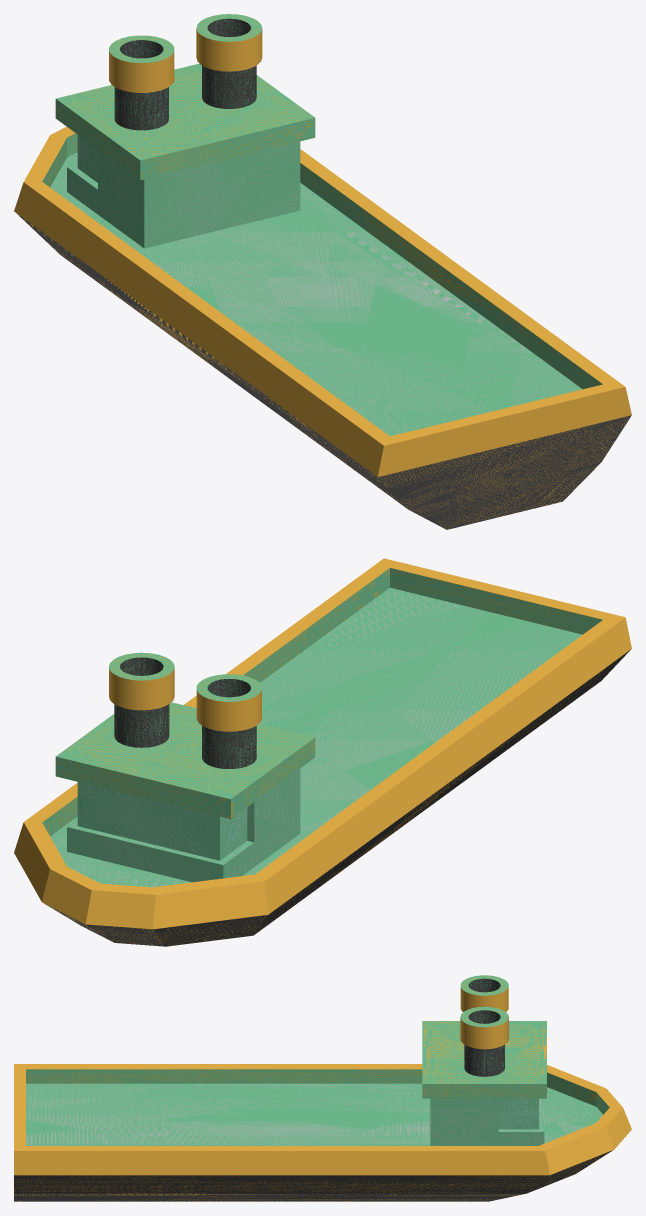
File: boat_004.dae
3 renders of one model, top to bottom at view 1: azimuth 30°, elevation 25°; view 2: azimuth 150°, elevation 25°; view 3: azimuth 270°, elevation 25°, orthographic. The views are drawn at different scales.
Visible parts, largest first — view 1: boat_004; view 2: boat_004; view 3: boat_004.
Boxes of the visible parts, bbox=[...] form: boat_004: bbox=[14, 14, 631, 529]; boat_004: bbox=[14, 558, 631, 946]; boat_004: bbox=[14, 975, 631, 1201].
Bounding box in the file's own units: 3.69 × 3.38 × 10.55.
